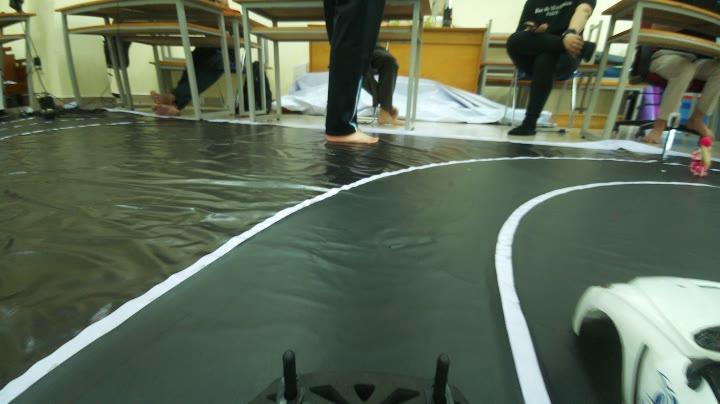car: (568, 272, 720, 404)
